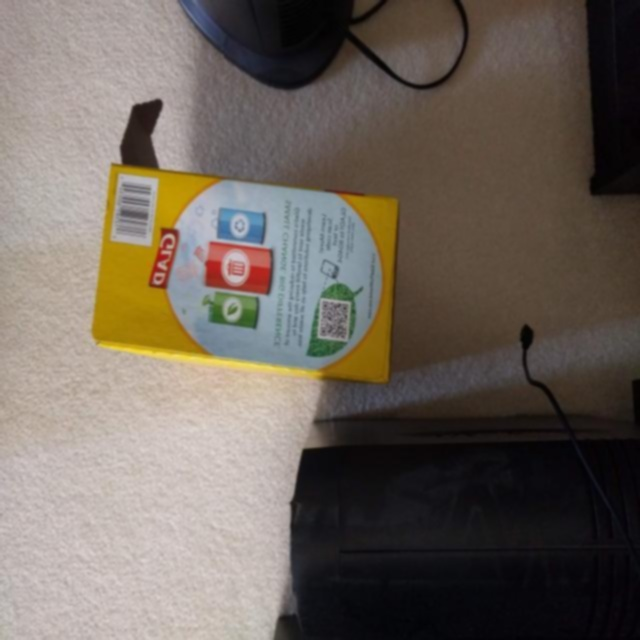qr-code: (311, 291, 355, 357)
